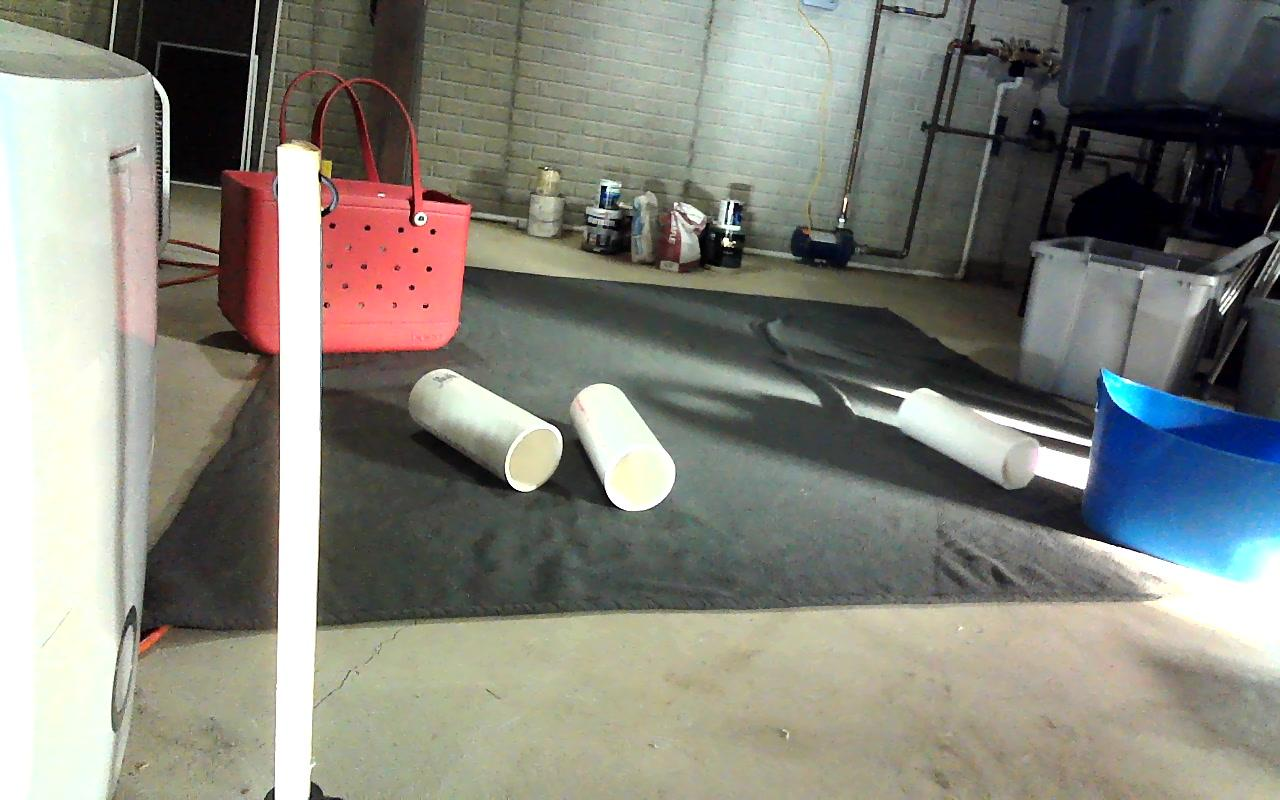coral: (407, 369, 564, 490), (896, 388, 1037, 487), (571, 383, 675, 509)
